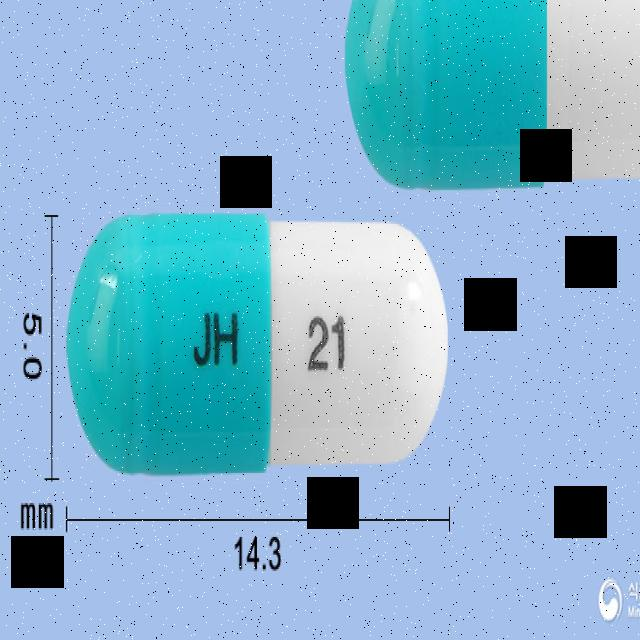Flunazole Cap: (65, 212, 451, 472)
